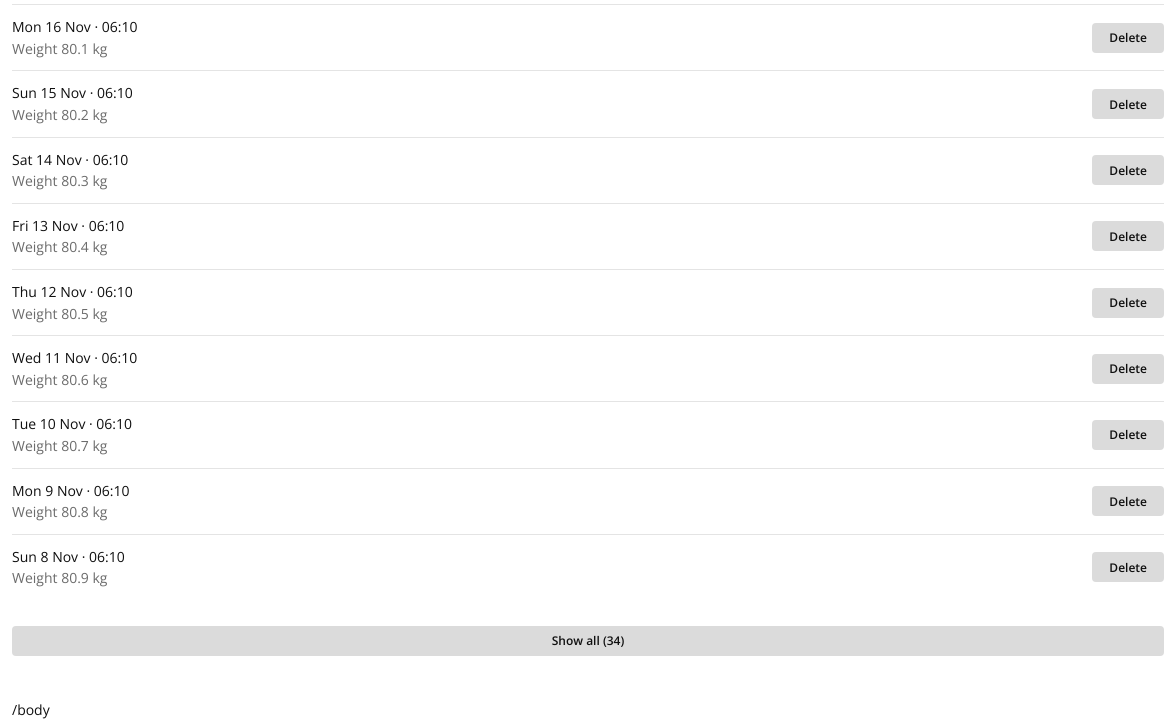
Test case: BodyPage (3k) › shows the latest 10 entries and a "Show all (N)" button for the rest
(page scrolled)
What coordinates should you click on to do the following:
click the button "Show all (34)"
I would click on:
 (588, 641)
Its box is [12,626,1164,656].
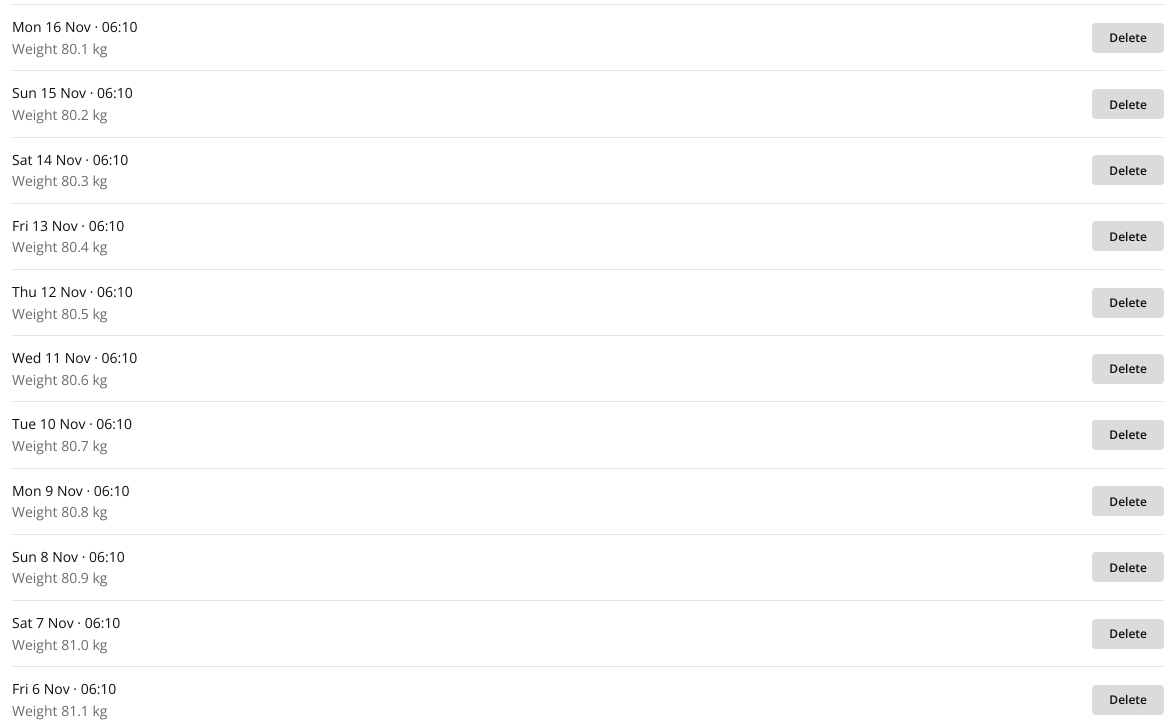
Check: the button "Show all" is gone
